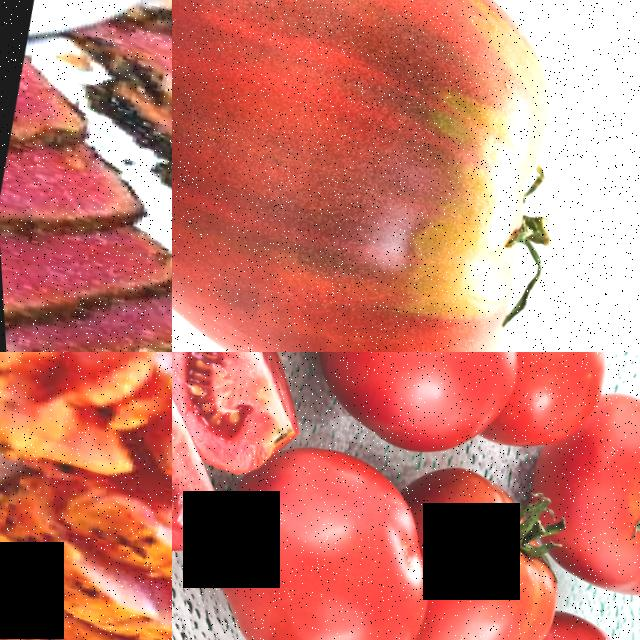tomato: (172, 0, 616, 352), (180, 419, 452, 640), (374, 444, 580, 640), (303, 352, 541, 469), (172, 352, 264, 569), (172, 352, 328, 479)
